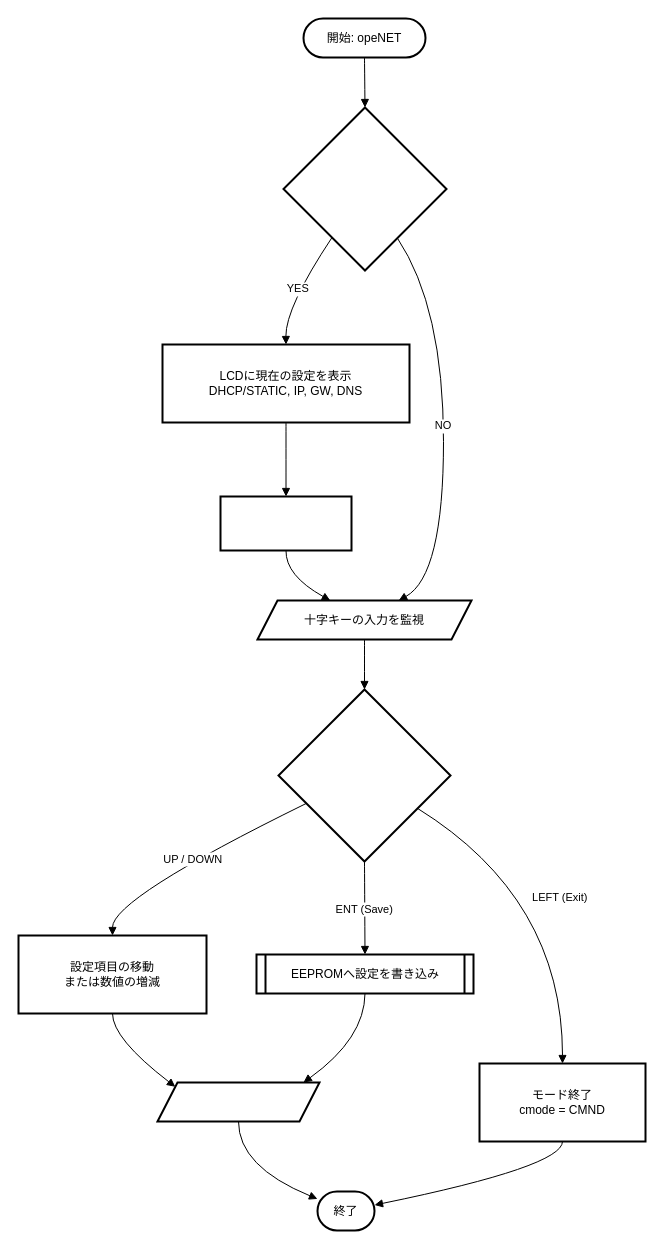
Image size: 663x1248. Some labels were removed from this diagram. The shapes that lost their labels are listed below. From the top down, each one's centre as x and y in pixels, then its label:
pixel 364 188: fsf フラグが真?
pixel 285 523: fsf = false
pixel 364 775: 押されたキーは?
pixel 238 1101: LCD表示を更新
